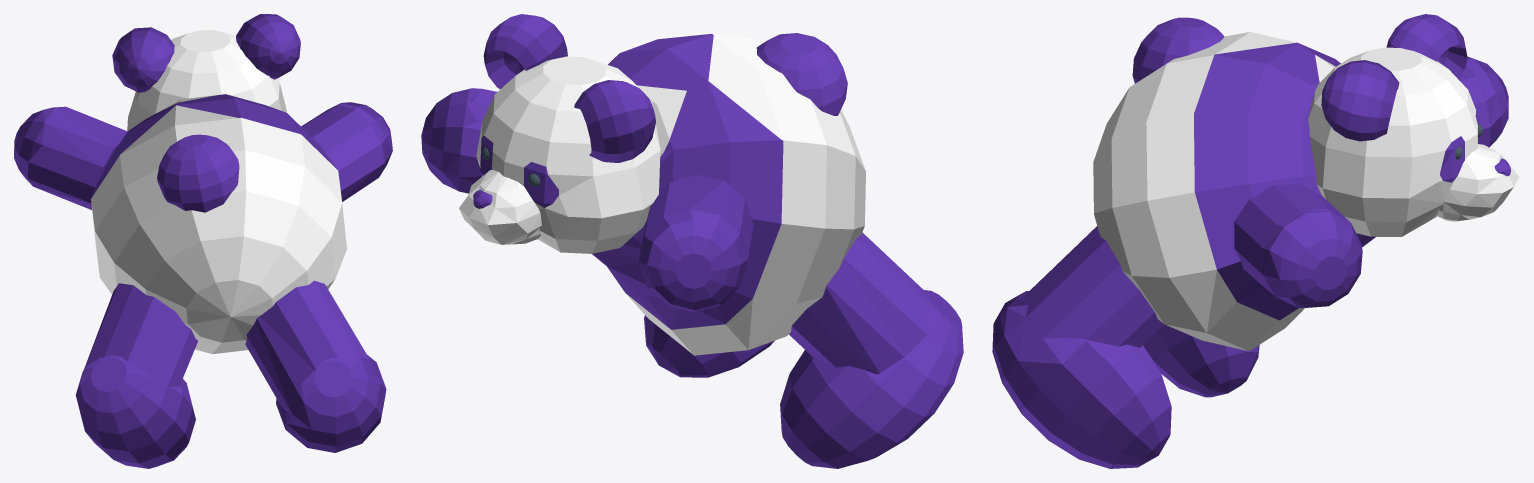
The picture shows the model from 3 angles, left to right: view 1: azimuth 30°, elevation 25°; view 2: azimuth 150°, elevation 25°; view 3: azimuth 270°, elevation 25°; orthographic projection. The views are drawn at different scales.
Visible parts, largest first — view 1: mesh441443281, mesh86727484, mesh1313138209, mesh135488961, mesh2067466631, mesh1256857262; view 2: mesh441443281, mesh86727484, mesh1313138209, mesh1256857262, mesh2067466631; view 3: mesh441443281, mesh86727484, mesh2067466631, mesh135488961, mesh1313138209.
Boxes of the visible parts, left/top/right/bottom form: mesh441443281: left=14, top=94, right=392, bottom=354; mesh86727484: left=112, top=14, right=300, bottom=131; mesh1313138209: left=75, top=355, right=195, bottom=468; mesh135488961: left=245, top=280, right=368, bottom=414; mesh2067466631: left=276, top=354, right=386, bottom=452; mesh1256857262: left=84, top=283, right=197, bottom=390; mesh441443281: left=421, top=33, right=865, bottom=355; mesh86727484: left=459, top=14, right=660, bottom=253; mesh1313138209: left=780, top=290, right=963, bottom=468; mesh1256857262: left=789, top=232, right=926, bottom=374; mesh2067466631: left=644, top=315, right=774, bottom=377; mesh441443281: left=1093, top=17, right=1508, bottom=351; mesh86727484: left=1308, top=14, right=1519, bottom=236; mesh2067466631: left=992, top=291, right=1171, bottom=468; mesh135488961: left=1023, top=226, right=1164, bottom=347; mesh1313138209: left=1143, top=324, right=1259, bottom=397.
Size of the model in its own units: 1.98 by 1.86 by 2.04.
